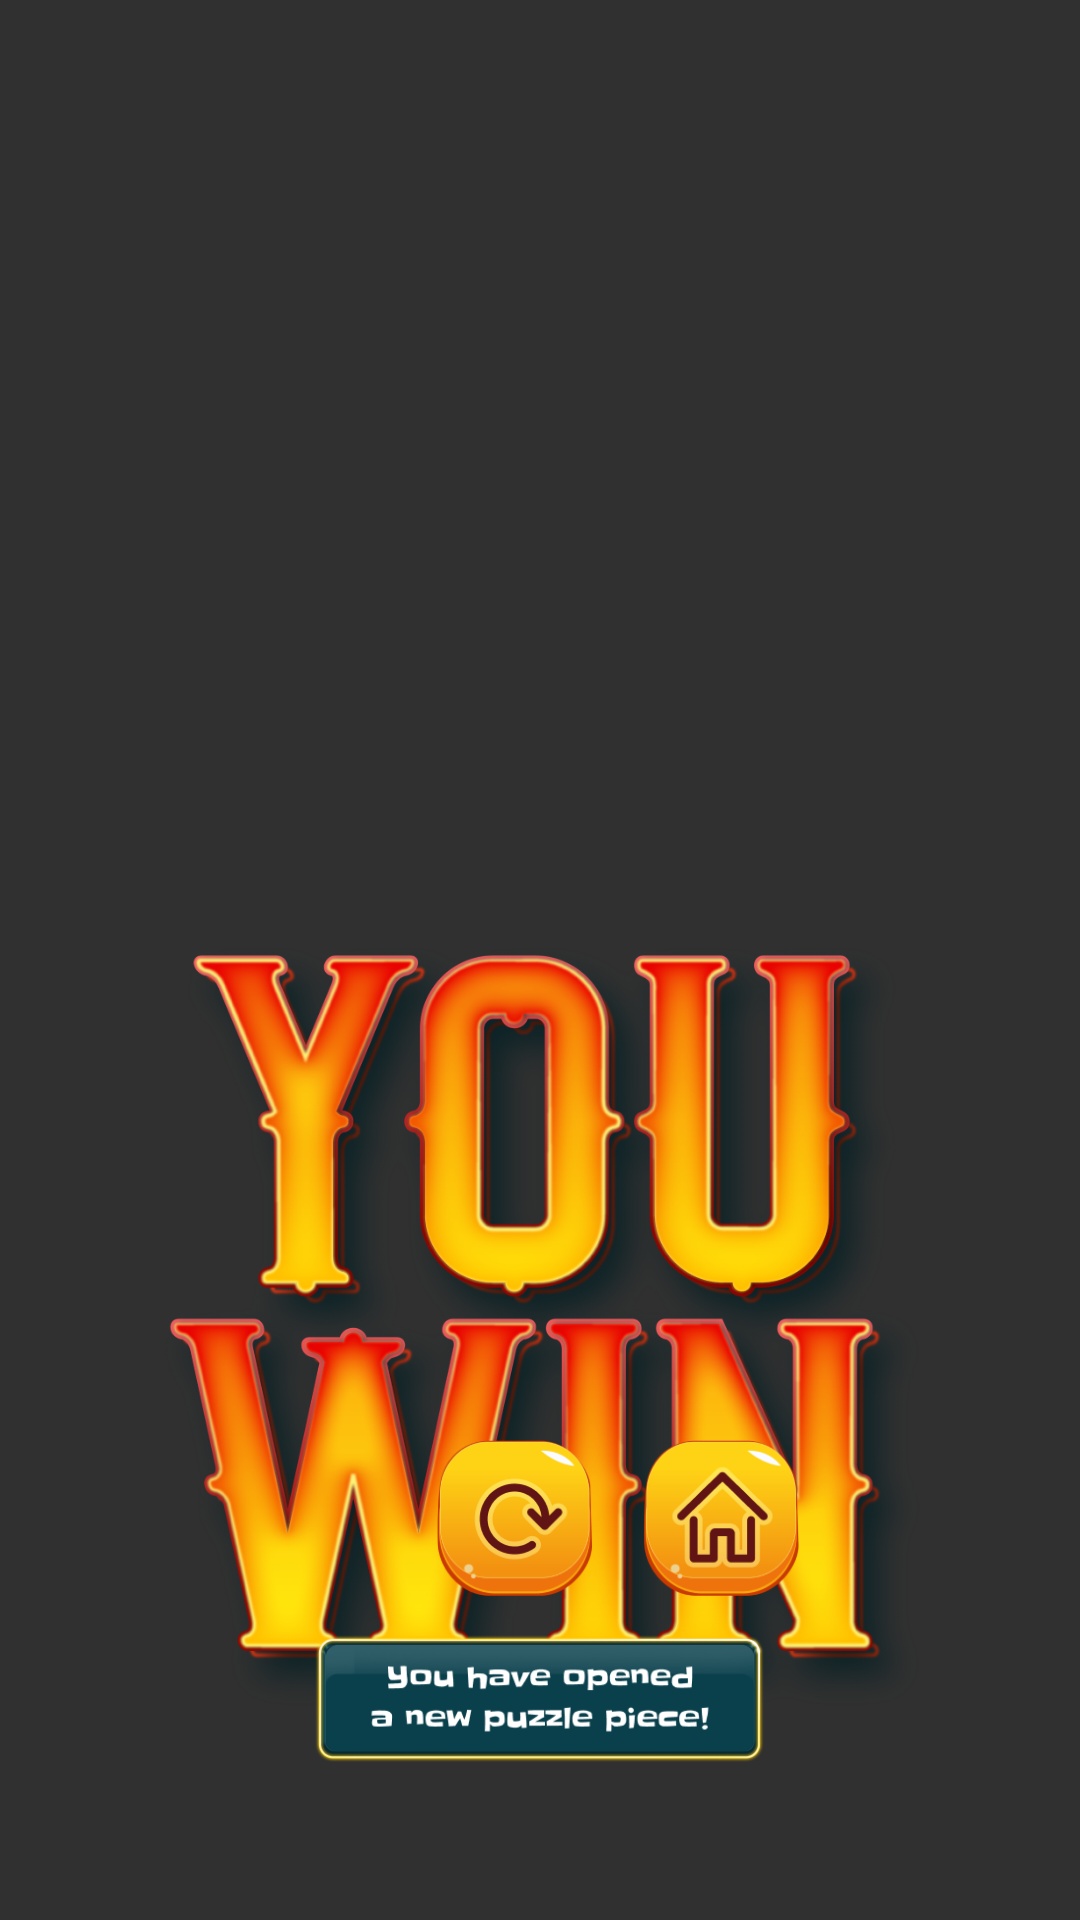

Icon click points for this 1080 x 1920 phone screenshot, format (x=x, y=y):
home: (x=721, y=1518)
repeat: (x=514, y=1518)
